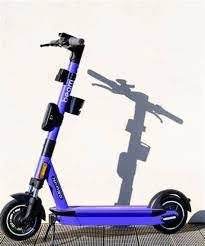kick_board: (1, 32, 192, 240)
kick_body: (66, 205, 150, 225)
kick_handler: (40, 33, 84, 62)
kick_neck: (34, 66, 80, 184)
kick_wheel: (3, 192, 45, 240), (152, 190, 190, 233)
